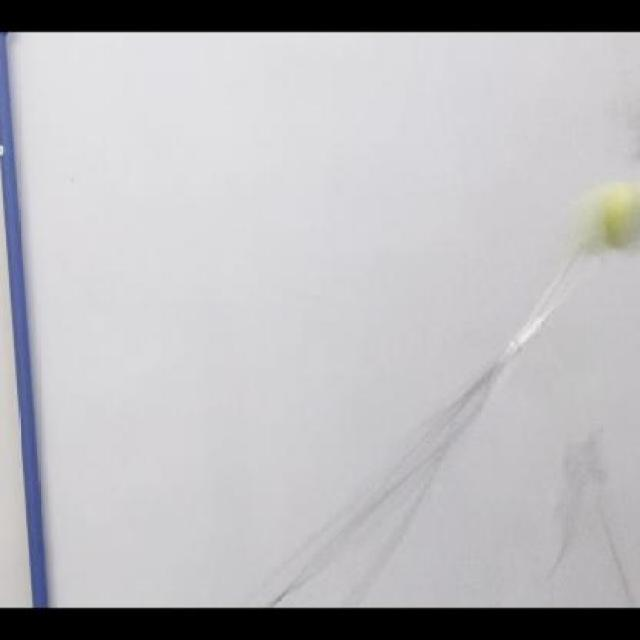baseball: (573, 177, 639, 248)
